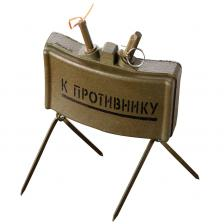MOH-50: (35, 27, 194, 150)
